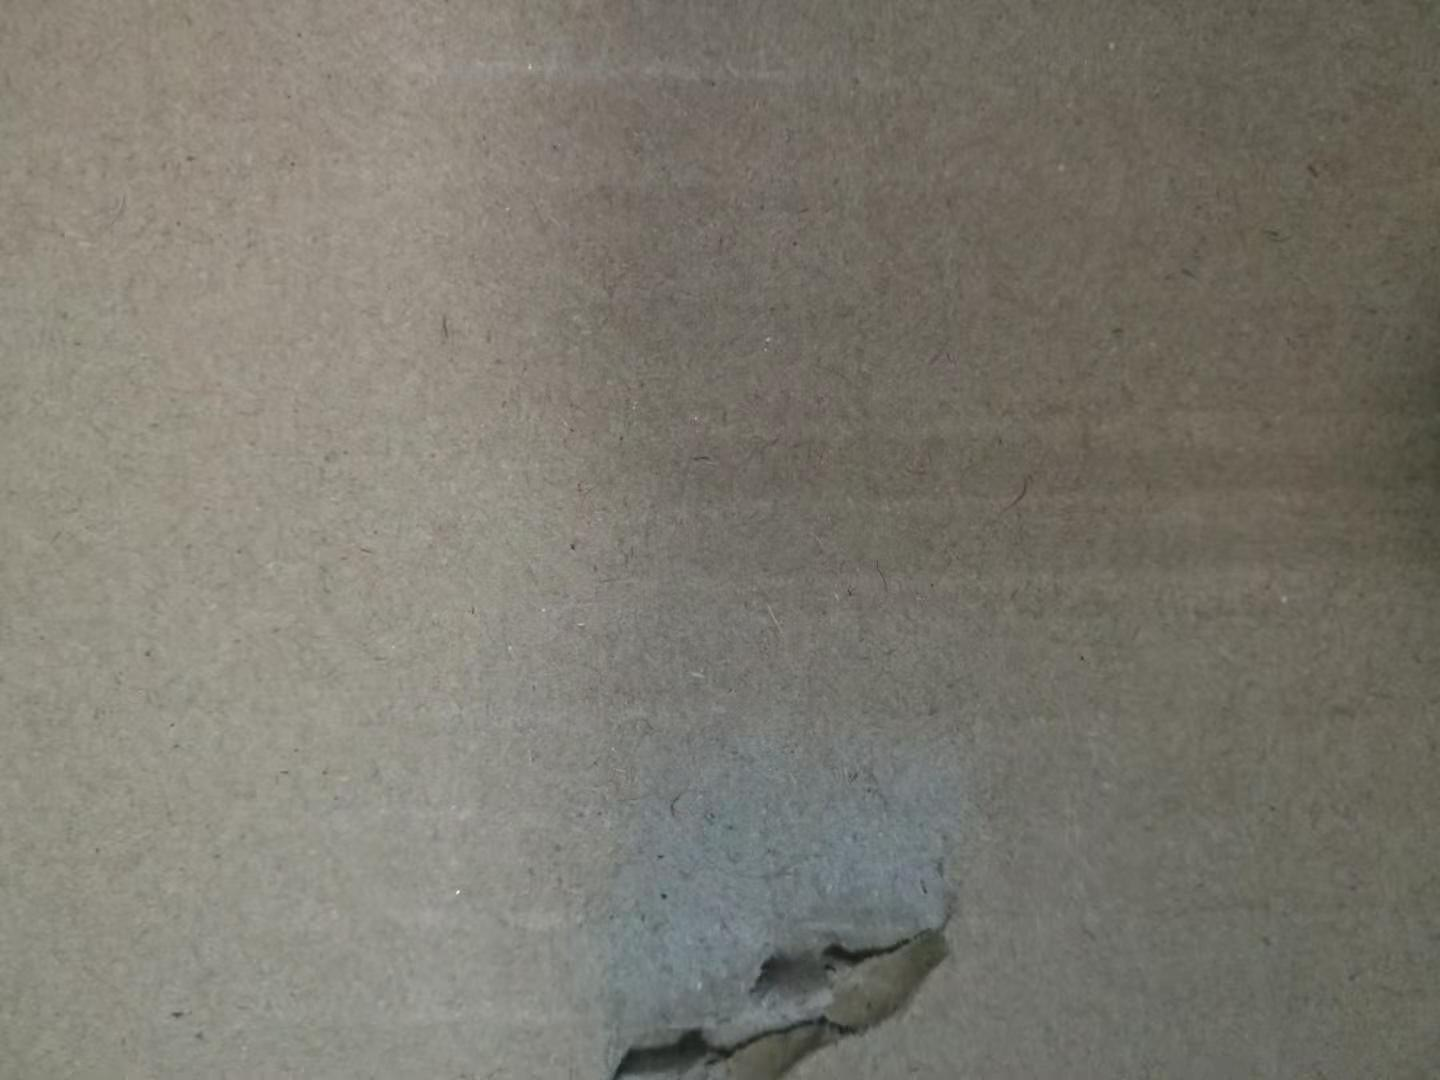defect: (536, 653, 1024, 1080)
